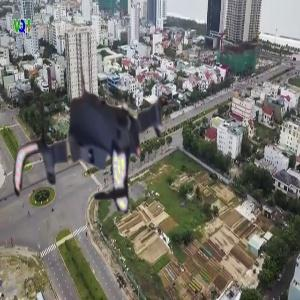drone: (6, 61, 186, 241)
